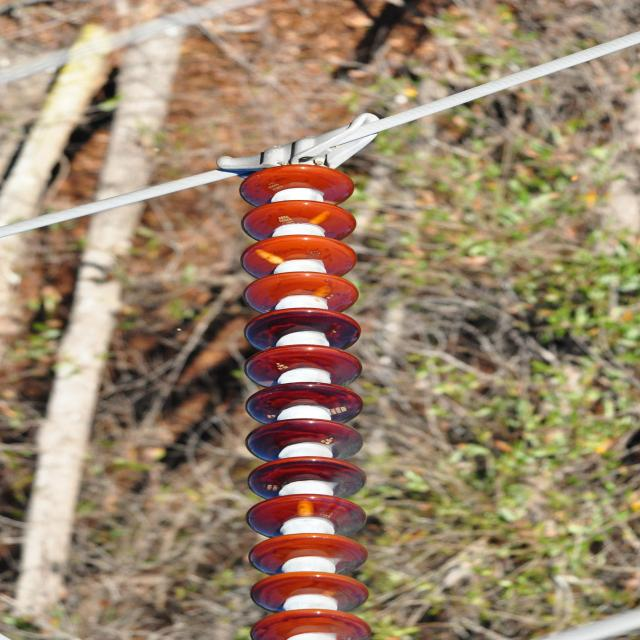insulator: (235, 165, 374, 638)
